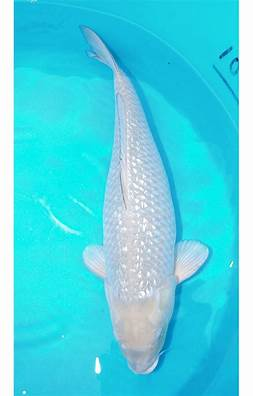white: (79, 25, 211, 376)
